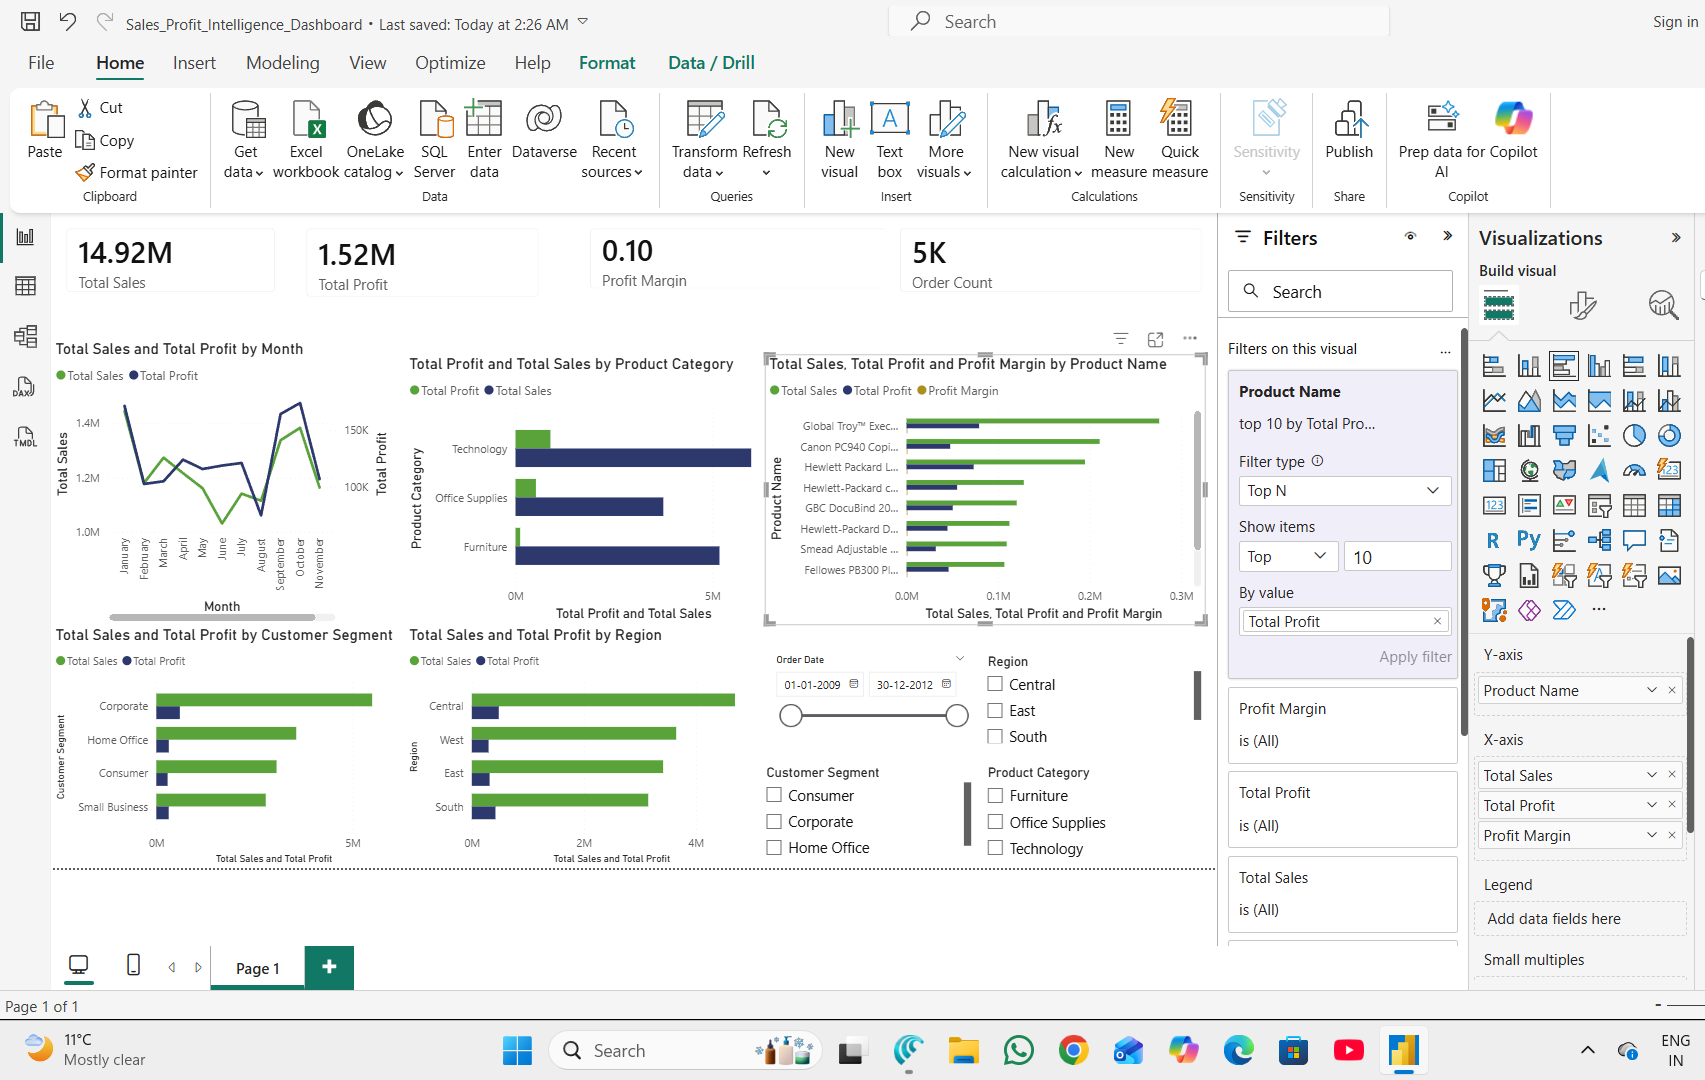

The dashboard page shown, as its layout file describes it:
{"tool":"powerbi","page":{"name":"Page 1","canvas":[1280,720],"ordinal":0},"visuals":[{"type":"cardVisual","fields":{"Data":["Orders.Total Sales"]},"box":[0,0,263.5,104.3],"z":0},{"type":"cardVisual","fields":{"Data":["Orders.Total Profit"]},"box":[263.5,0,289.5,109.8],"z":1},{"type":"cardVisual","fields":{"Data":["Orders.Profit Margin"]},"box":[575,0,362.3,100.2],"z":2},{"type":"cardVisual","fields":{"Data":["Orders.Order Count"]},"box":[915.3,0,365,104.3],"z":3},{"type":"lineChart","fields":{"Y":["Orders.Total Sales"],"Category":["Orders.Order Date.Variation.Date Hierarchy.Month"],"Y2":["Orders.Total Profit"]},"box":[0,138.6,376,314.2],"z":4},{"type":"clusteredBarChart","fields":{"Y":["Orders.Total Profit","Orders.Total Sales"],"Category":["Orders.Product Category"]},"box":[388.3,155.1,395.2,297.8],"z":5},{"type":"clusteredBarChart","fields":{"Category":["Orders.Customer Segment"],"Y":["Orders.Total Sales","Orders.Total Profit"]},"box":[0,452.8,388.3,267.6],"z":6},{"type":"clusteredBarChart","fields":{"Category":["Orders.Region"],"Y":["Orders.Total Sales","Orders.Total Profit"]},"box":[388.3,452.8,395.2,267.6],"z":7},{"type":"clusteredBarChart","fields":{"Category":["Orders.Product Name"],"Y":["Orders.Total Sales","Orders.Total Profit","Orders.Profit Margin"]},"box":[783.5,155.1,484.4,297.8],"z":8},{"type":"slicer","fields":{"Values":["Orders.Order Date"]},"box":[783.5,478.9,231.9,108.4],"z":9},{"type":"slicer","fields":{"Values":["Orders.Region"]},"box":[1015.4,478.9,252.5,108.4],"z":10},{"type":"slicer","fields":{"Values":["Orders.Customer Segment"]},"box":[772.6,601,242.9,119.4],"z":11},{"type":"slicer","fields":{"Values":["Orders.Product Category"]},"box":[1015.4,601,252.5,119.4],"z":12}]}

Visuals, with their boxes on the page's 1280x720 design canvas (x1, y1, x2, y2). These are canvas units, not pixel positions in the 1705x1080 screenshot, which may show the page scaled, cropped or inside an application window:
cardVisual - Orders.Total Sales: 0, 0, 264, 104
cardVisual - Orders.Total Profit: 264, 0, 553, 110
cardVisual - Orders.Profit Margin: 575, 0, 937, 100
cardVisual - Orders.Order Count: 915, 0, 1280, 104
lineChart - Orders.Total Sales x Orders.Order Date.Variation.Date Hierarchy.Month: 0, 139, 376, 453
clusteredBarChart - Orders.Total Profit x Orders.Total Sales: 388, 155, 784, 453
clusteredBarChart - Orders.Customer Segment x Orders.Total Sales: 0, 453, 388, 720
clusteredBarChart - Orders.Region x Orders.Total Sales: 388, 453, 784, 720
clusteredBarChart - Orders.Product Name x Orders.Total Sales: 784, 155, 1268, 453
slicer - Orders.Order Date: 784, 479, 1015, 587
slicer - Orders.Region: 1015, 479, 1268, 587
slicer - Orders.Customer Segment: 773, 601, 1016, 720
slicer - Orders.Product Category: 1015, 601, 1268, 720
